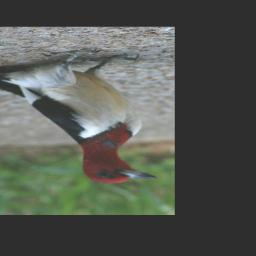Woodpecker: (0, 49, 163, 184)
